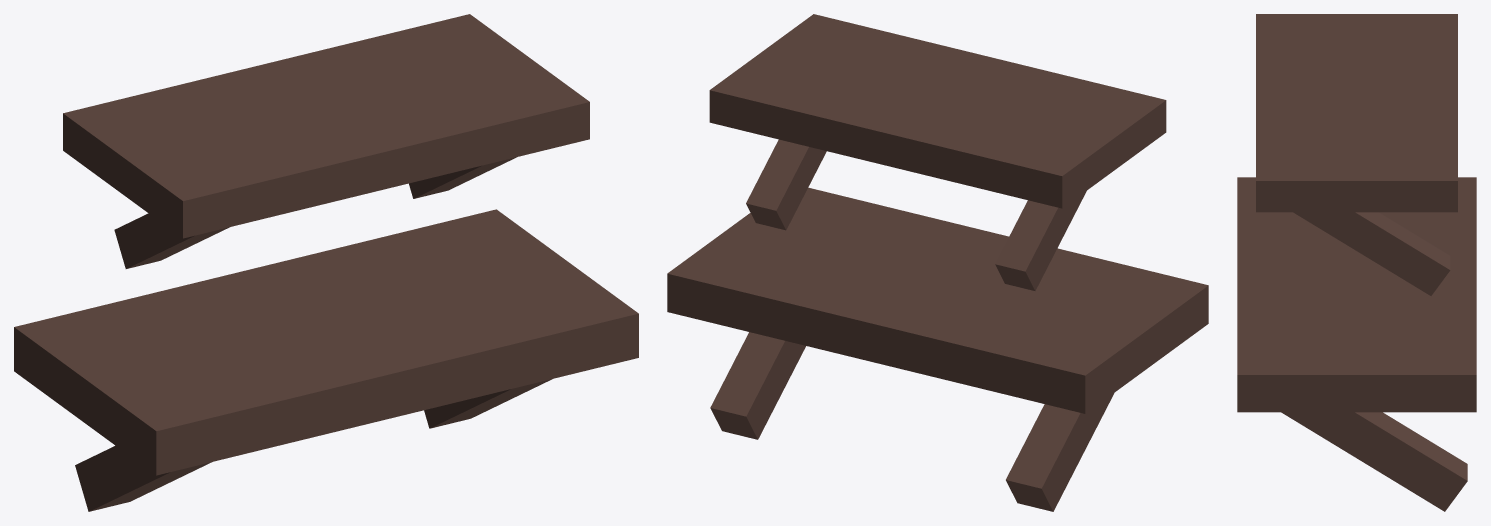
Rendered from Shelves.fbx.
3 views of the same model, side by side, from view 1: azimuth 30°, elevation 25°; view 2: azimuth 150°, elevation 25°; view 3: azimuth 270°, elevation 25° (orthographic). The views are drawn at different scales.
Parts seen in each view (by area): view 1: pCube6; view 2: pCube6; view 3: pCube6.
Boxes of the visible parts, bbox=[...] form: pCube6: bbox=[14, 14, 638, 511]; pCube6: bbox=[667, 14, 1208, 511]; pCube6: bbox=[1237, 14, 1476, 511].
Size of the model in its own units: 2.13 by 1.68 by 1.09.
1 material, 1 textured.
